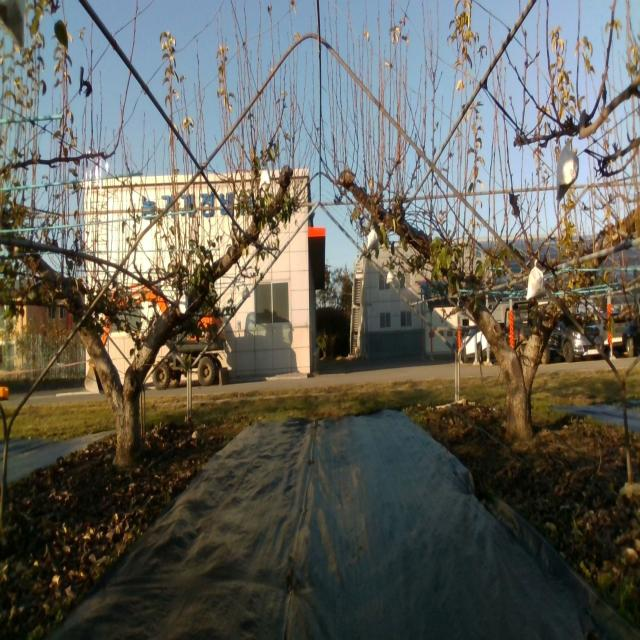pearbags: (556, 146, 579, 205), (526, 260, 546, 301), (259, 164, 270, 189)
